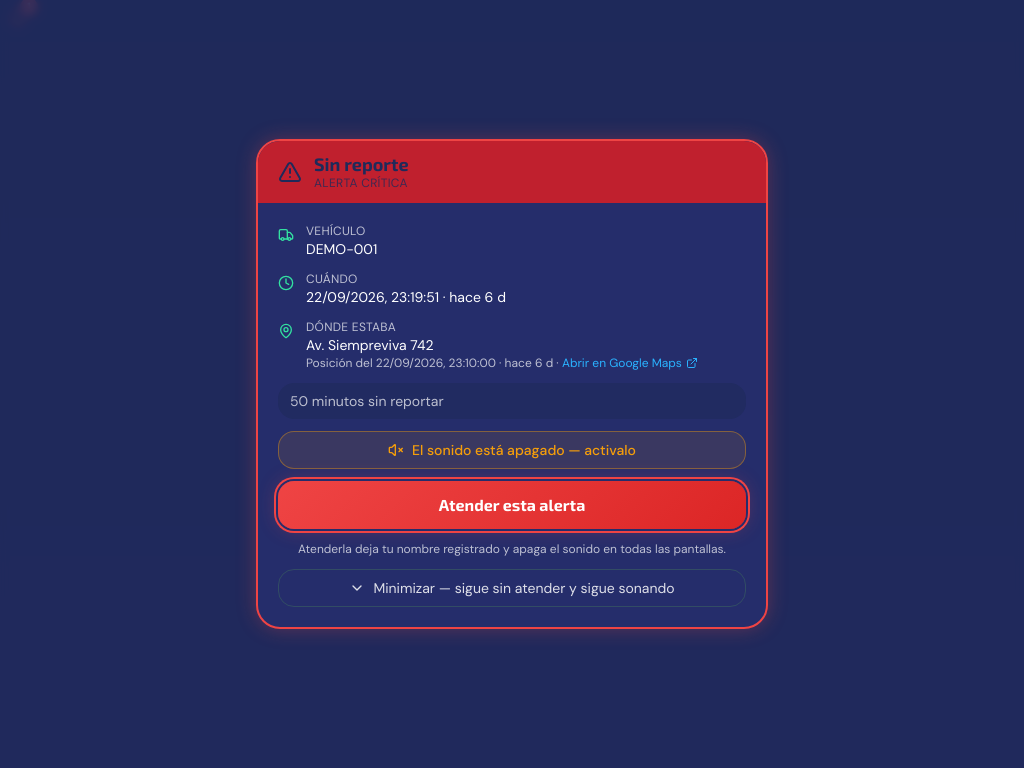
Test: Campana · los tres estados se distinguen en pantalla › 🔴 sin permiso, muestra EL MOTIVO y no esconde el formulario
Click the button "Atender esta alerta" at (512, 505), box [278, 481, 746, 529]
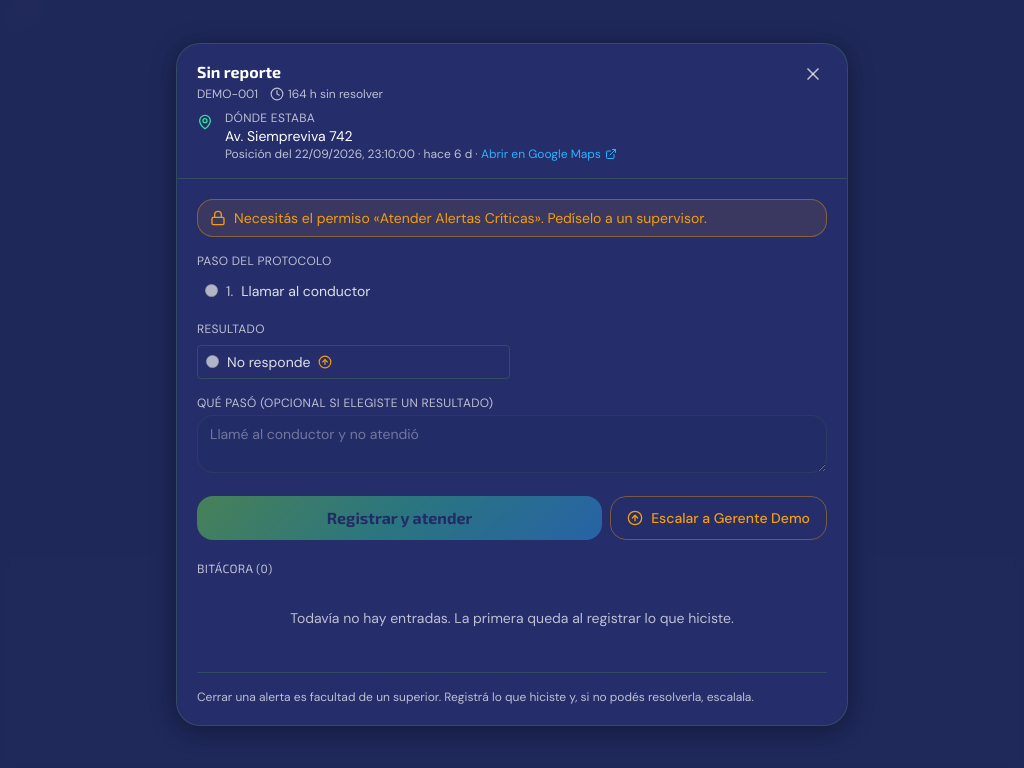
Check: the text "Atender Alertas Críticas" is shown, box [234, 208, 707, 226]
Check: the button "Registrar y atender" is disabled, box [197, 496, 602, 540]
